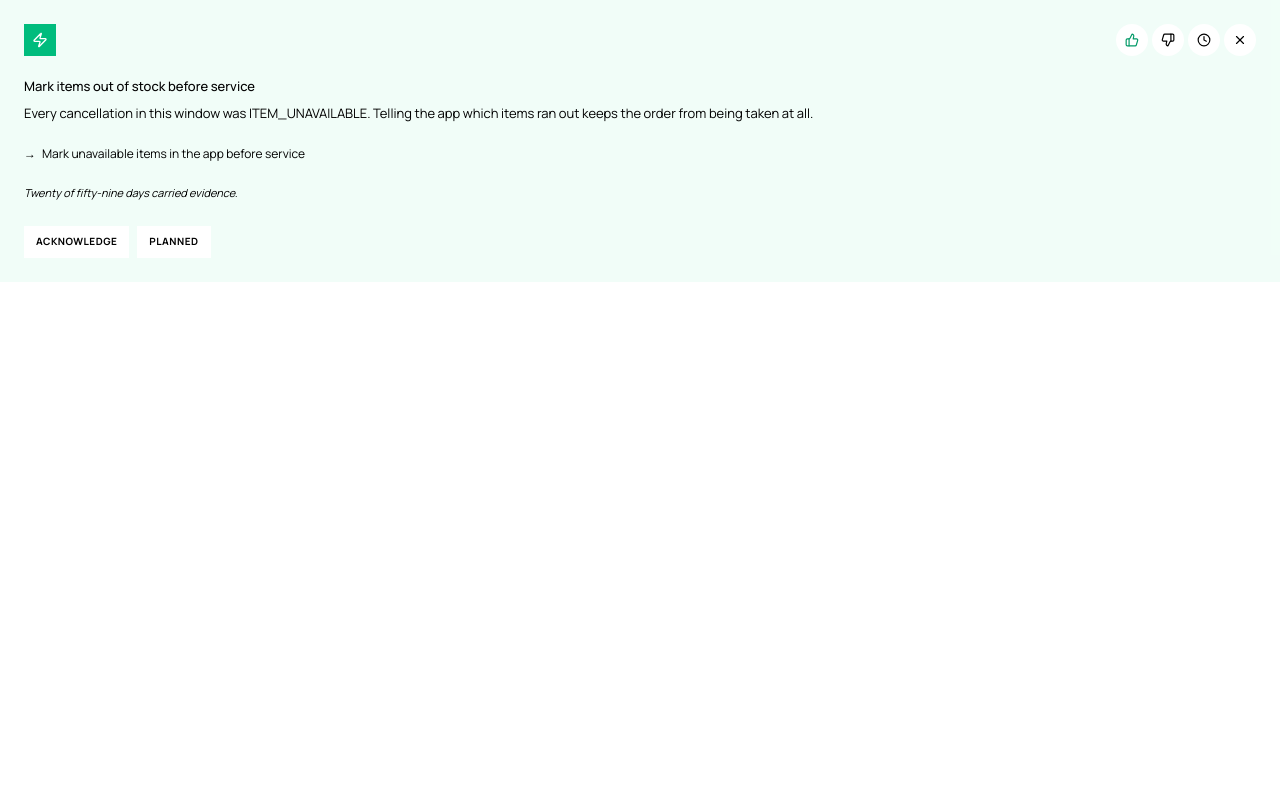
Test: RecommendationControls › refuses a past horizon with the route's own wording
This screenshot has width=1280, height=800.
Click the button named "Snooze": point(1204, 40) [1188,24,1220,56]
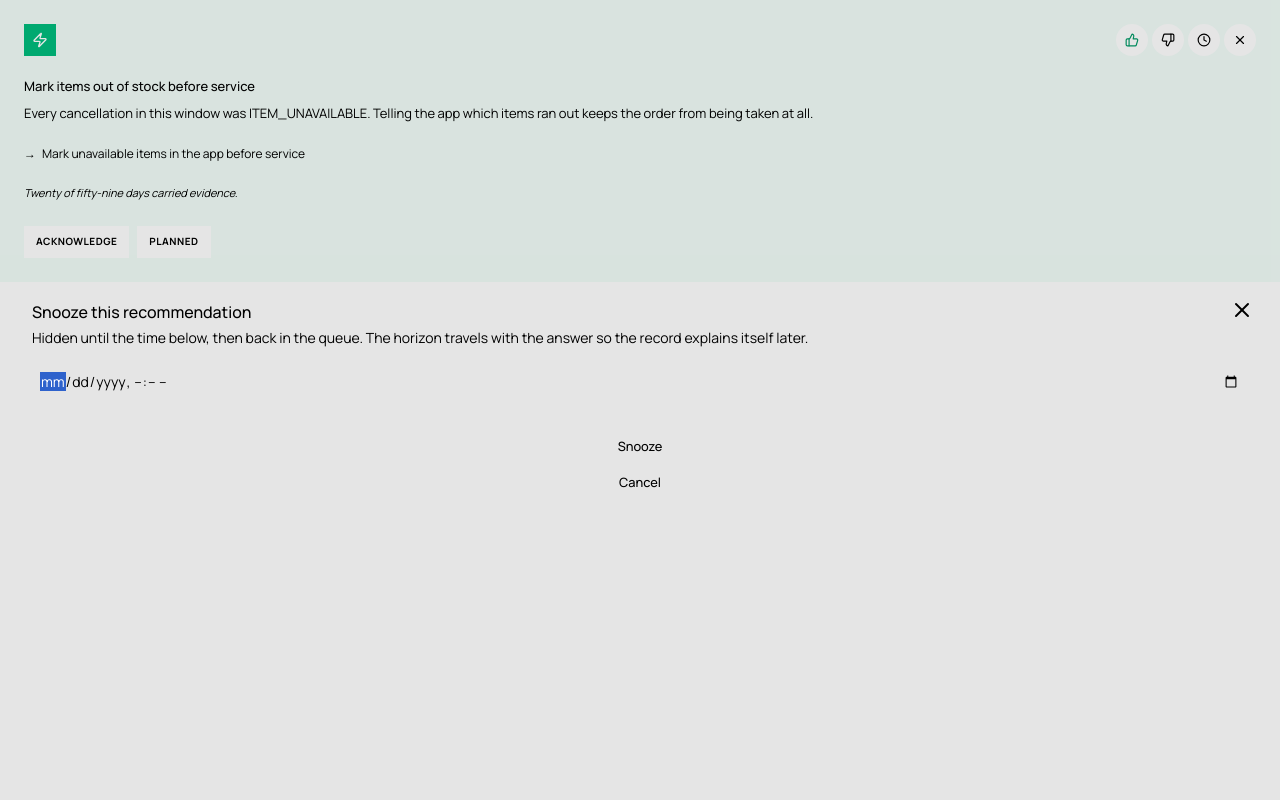
In the field named "Snooze until": point(640, 382) [32,364,1248,400], type "2020-01-01T09:00"
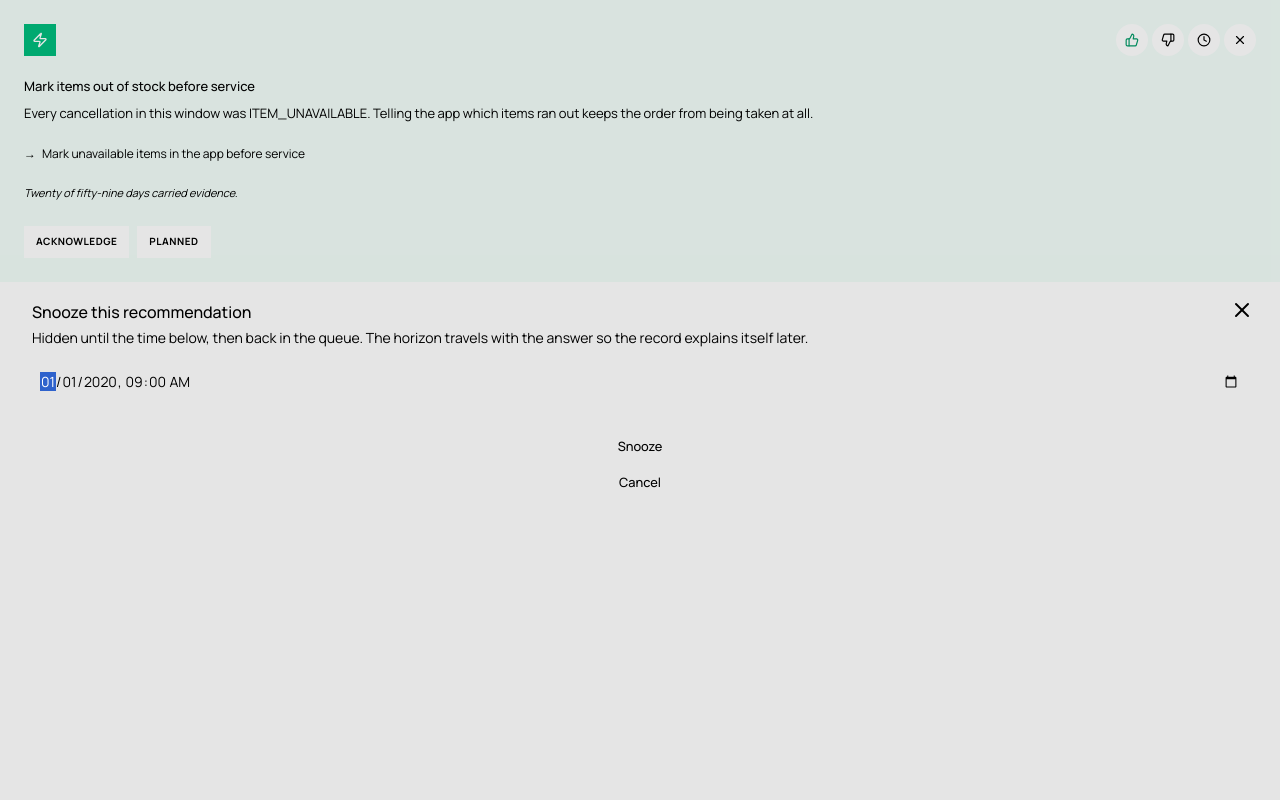
Click the button "Snooze": point(640, 446) [32,432,1248,460]
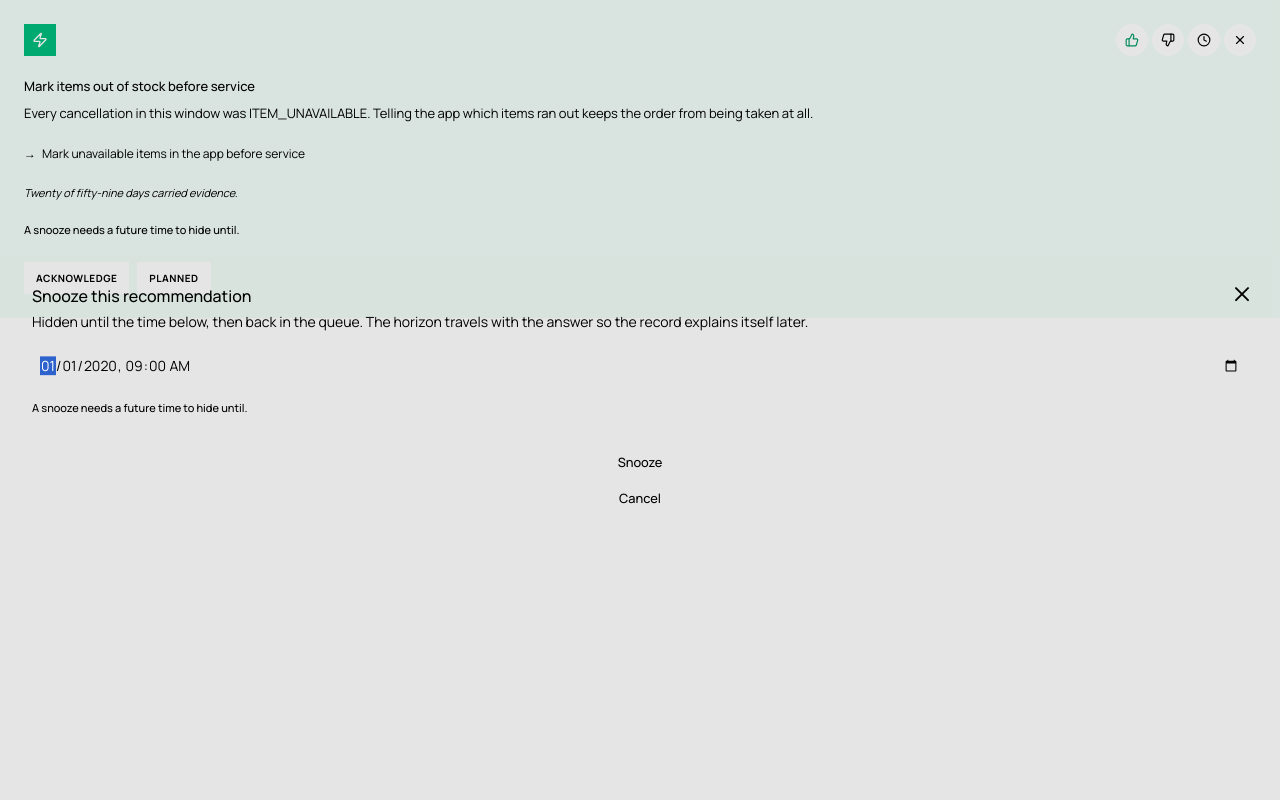
Now the message shows "future time", box [32,400,247,415]
